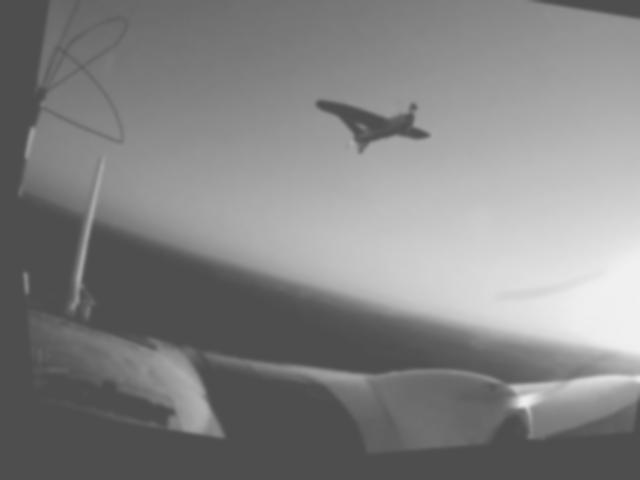hedef: (288, 65, 454, 200)
